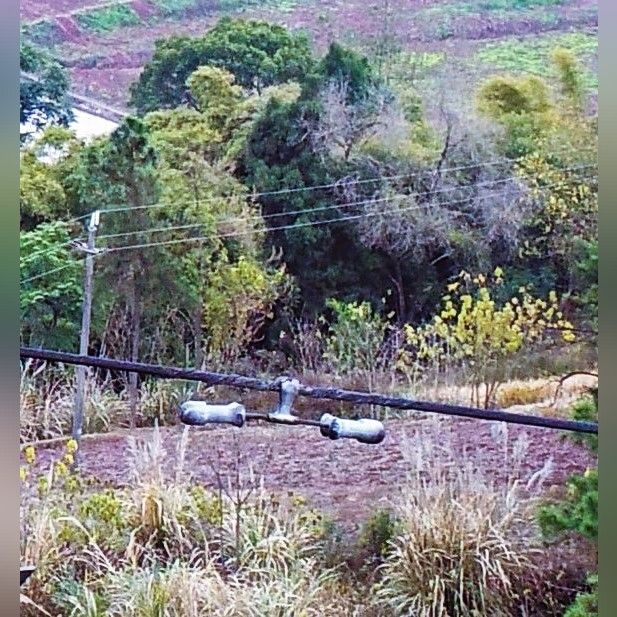Shockproof hammer: (176, 367, 391, 451)
